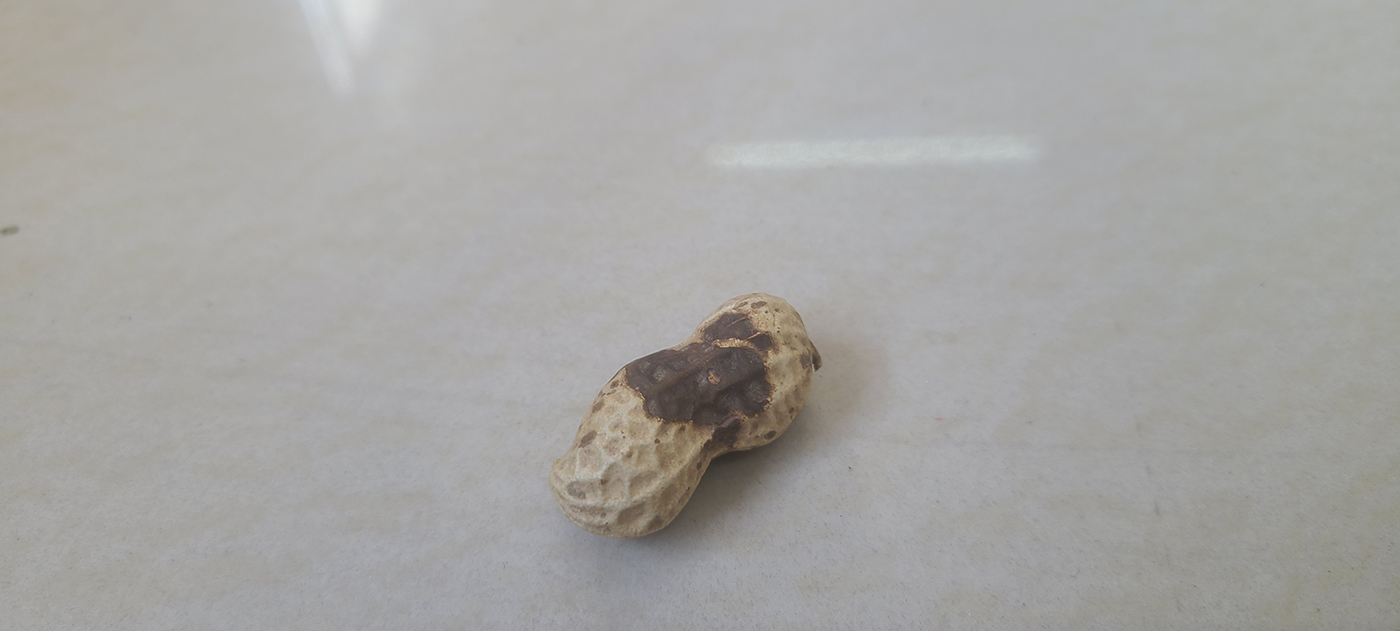l: (548, 292, 818, 539)
